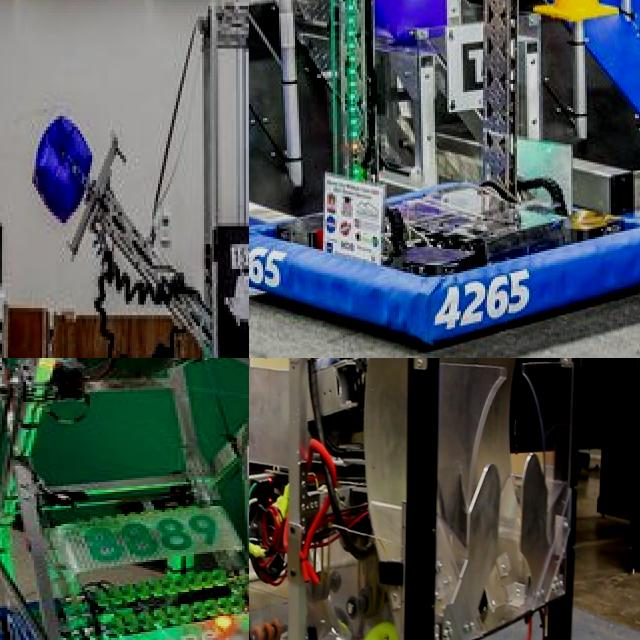FRC-Robots: (249, 0, 640, 330), (249, 358, 640, 640), (0, 0, 249, 358), (0, 358, 249, 640)
